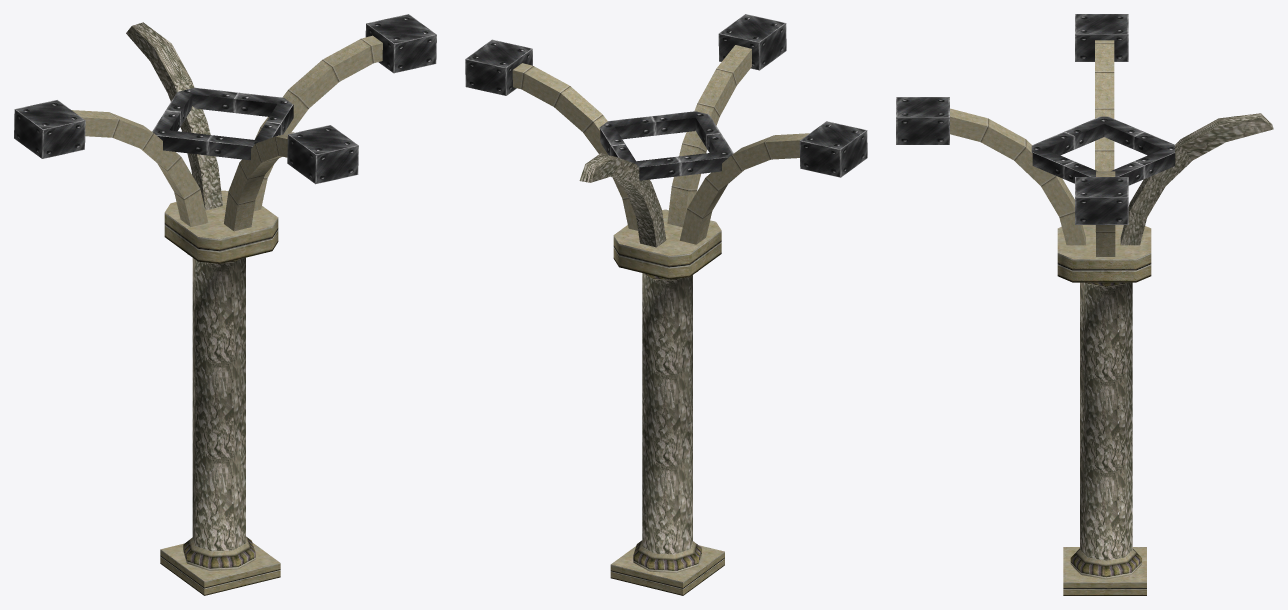
The model's file is INST_SM_COLUMN_CHAIN.fbx.
3 renders of one model, left to right at view 1: azimuth 30°, elevation 25°; view 2: azimuth 150°, elevation 25°; view 3: azimuth 270°, elevation 25°, orthographic. The views are drawn at different scales.
Visible parts, largest first — view 1: INST_SM_COLUMN_CHAIN; view 2: INST_SM_COLUMN_CHAIN; view 3: INST_SM_COLUMN_CHAIN.
Part boxes in pixels (bbox=[...]): INST_SM_COLUMN_CHAIN: bbox=[14, 14, 436, 595]; INST_SM_COLUMN_CHAIN: bbox=[465, 14, 867, 595]; INST_SM_COLUMN_CHAIN: bbox=[896, 14, 1273, 595].
Size of the model in its own units: 57039 by 68989 by 49763.
6 materials, 6 textured.
